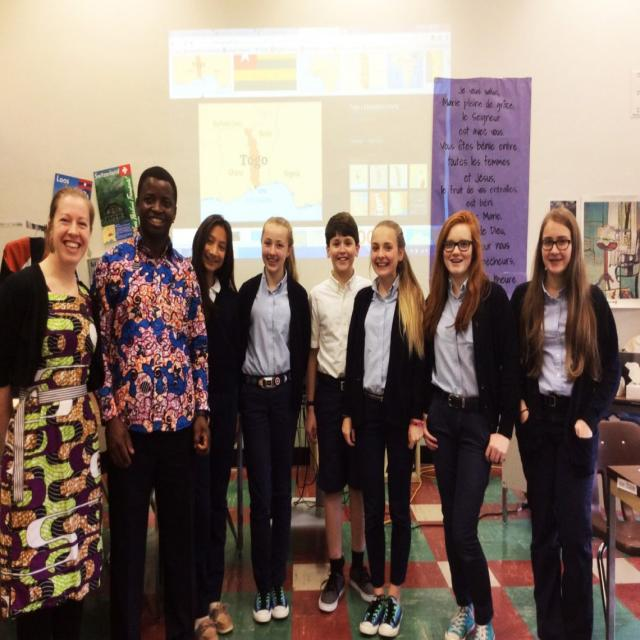body: (83, 161, 215, 639), (502, 206, 624, 640), (0, 183, 109, 639), (417, 206, 524, 640), (338, 218, 428, 640), (233, 212, 314, 627), (306, 210, 378, 616), (187, 211, 248, 640)
